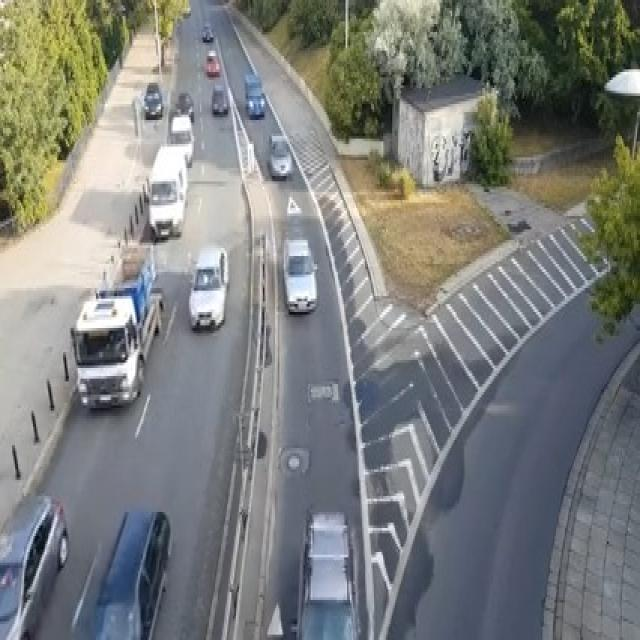car: (89, 507, 171, 637), (0, 491, 68, 637), (188, 242, 228, 330), (281, 235, 317, 312), (167, 110, 194, 166), (268, 133, 292, 179), (243, 72, 264, 117), (142, 80, 164, 117), (210, 80, 228, 115), (176, 90, 194, 122), (204, 48, 220, 75), (202, 19, 214, 40)
truck: (69, 240, 162, 411)
